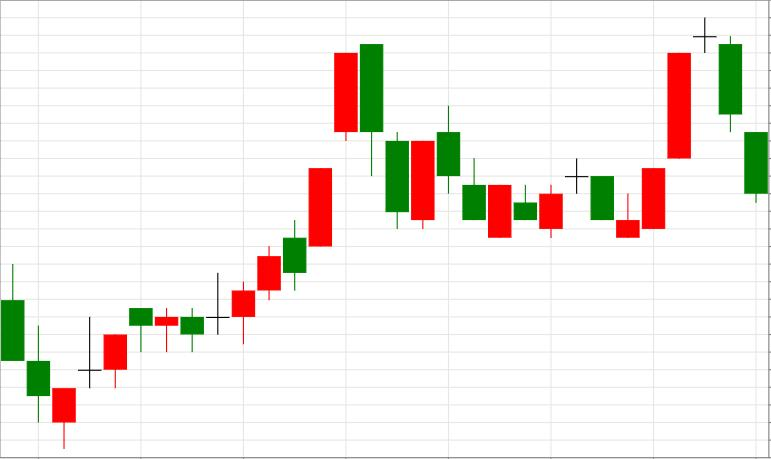bearish_engulfing_fall: (231, 44, 384, 344)
